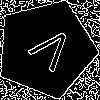V: (21, 24, 77, 80)
